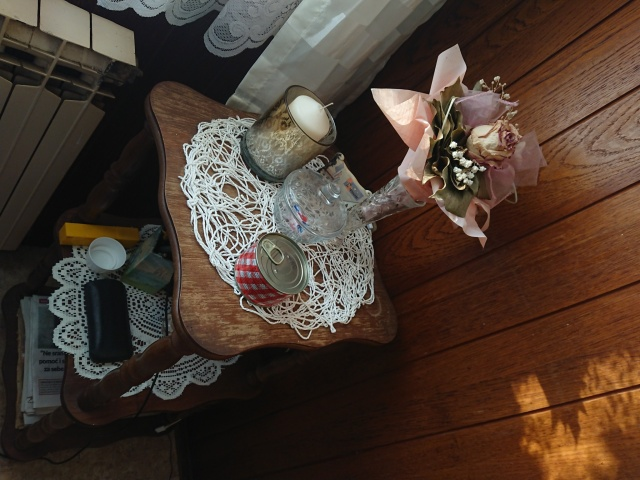Podravka Luncheon Meat 150g: (232, 229, 312, 310)
